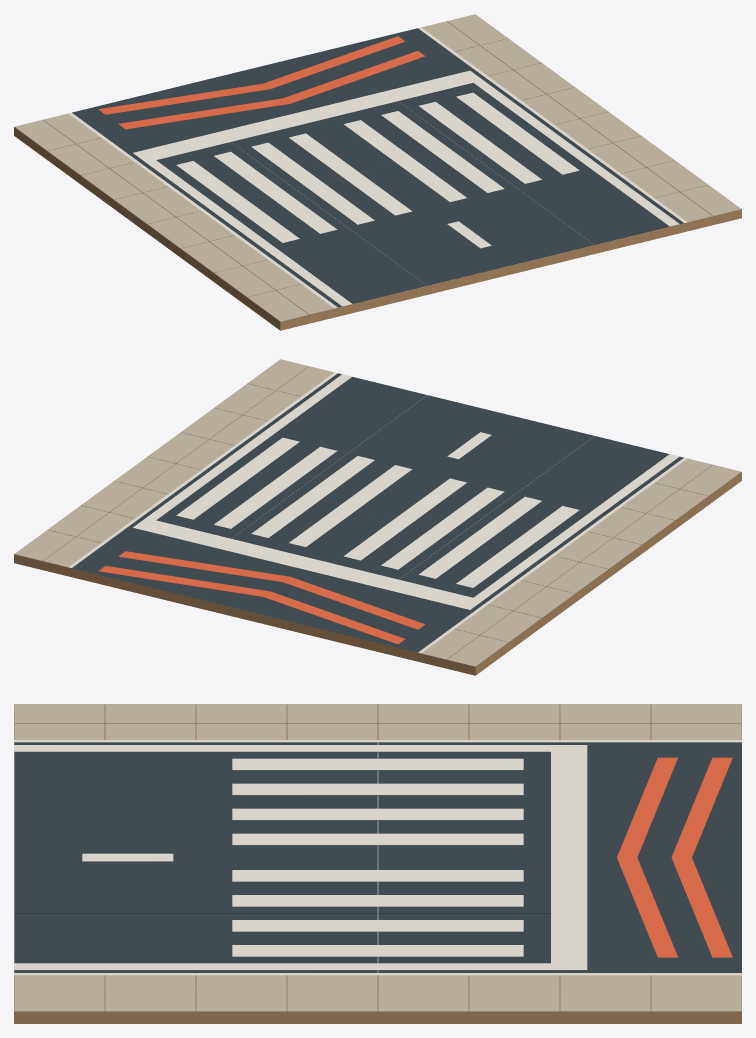
File: runway_end.fbx
3 views of the same model, one above another, from view 1: azimuth 30°, elevation 25°; view 2: azimuth 150°, elevation 25°; view 3: azimuth 270°, elevation 25° (orthographic). The views are drawn at different scales.
Visible parts, largest first — view 1: runway_end; view 2: runway_end; view 3: runway_end.
Part boxes in pixels (x1,y1,x2,y2): runway_end: (14, 14, 741, 330); runway_end: (14, 359, 741, 675); runway_end: (14, 704, 741, 1023).
Bounding box in the file's own units: 16 × 0.304 × 16.
